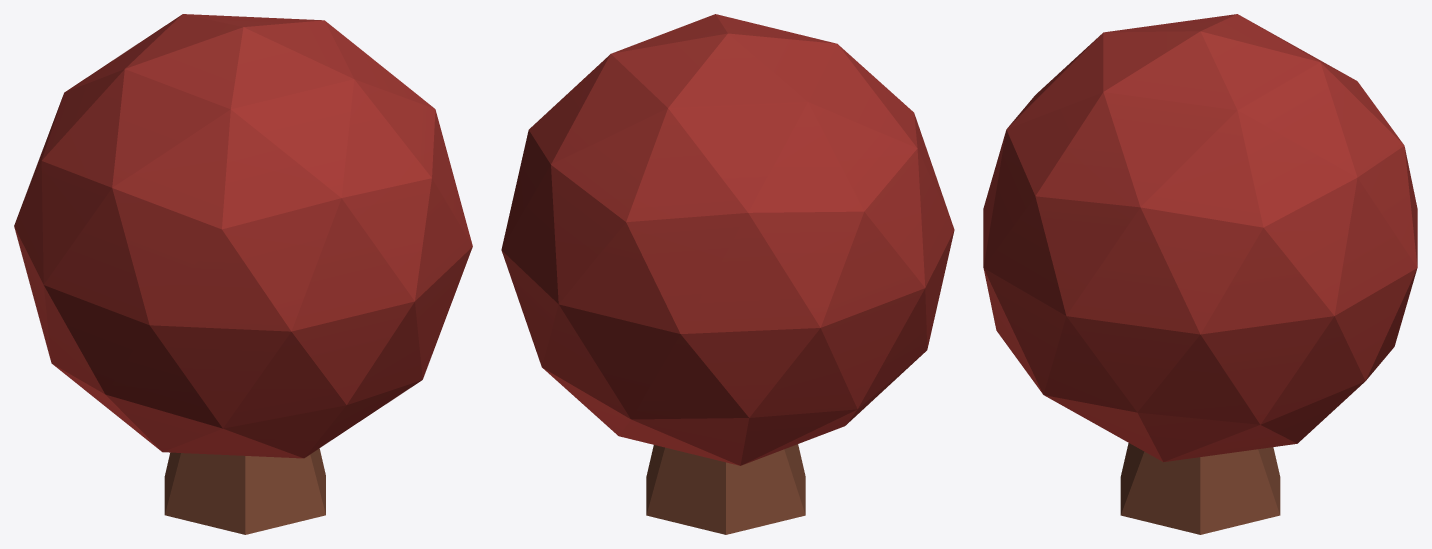
The model's file is Bush_2_gradient_red_vc.fbx.
3 renders of one model, left to right at view 1: azimuth 30°, elevation 25°; view 2: azimuth 150°, elevation 25°; view 3: azimuth 270°, elevation 25°, orthographic.
Visible parts, largest first — view 1: Bush_2_gradient_red_vc; view 2: Bush_2_gradient_red_vc; view 3: Bush_2_gradient_red_vc.
Part boxes in pixels (<box>): Bush_2_gradient_red_vc: <box>14,14,472,534</box>; Bush_2_gradient_red_vc: <box>501,14,954,534</box>; Bush_2_gradient_red_vc: <box>983,14,1417,534</box>.
Bounding box in the file's own units: 35.19 × 39.46 × 33.47.
